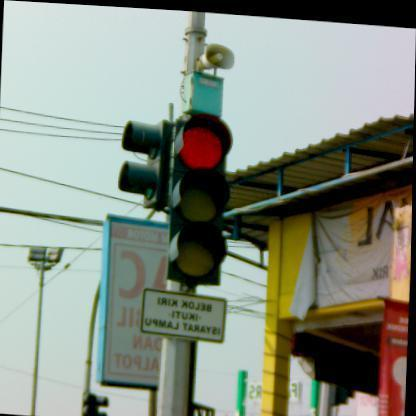red: (164, 114, 233, 280)
